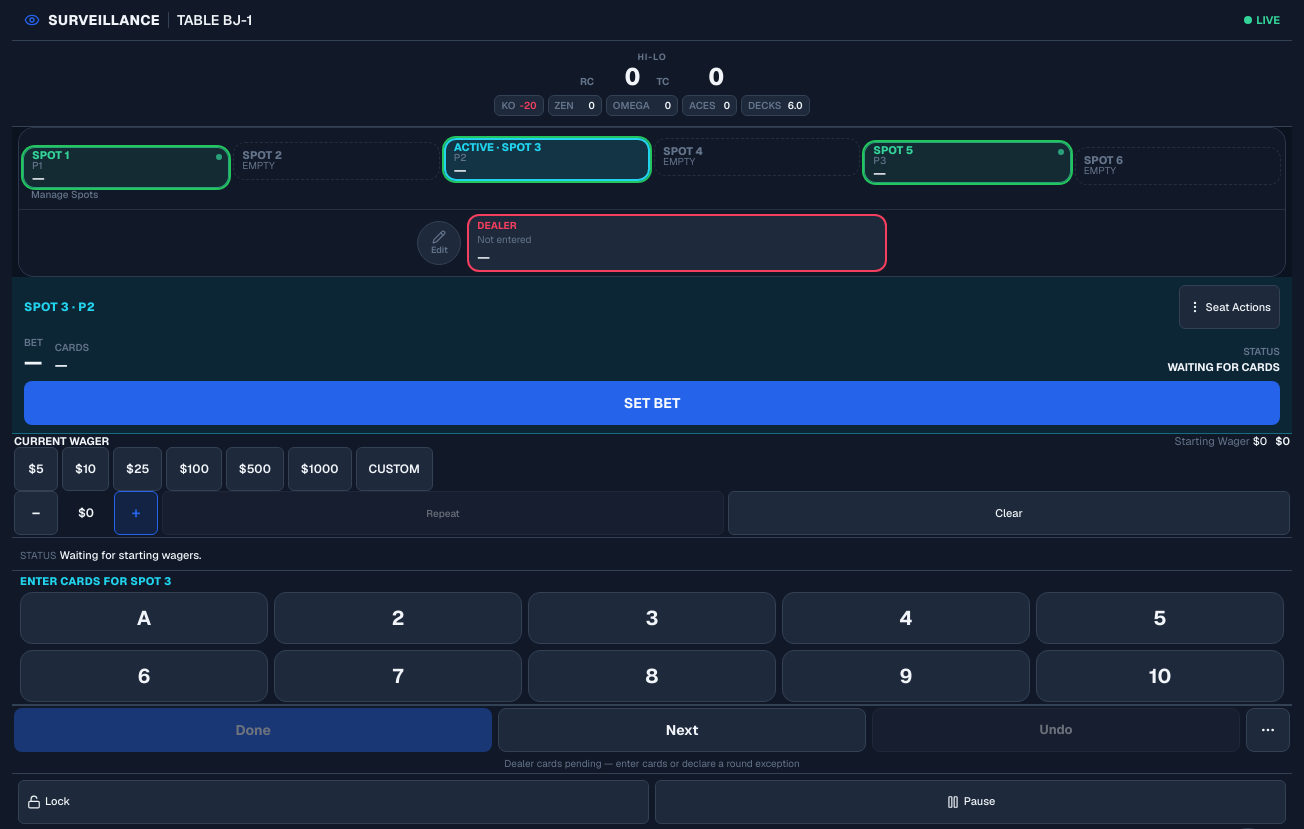
Test case: Terminology leak — Surveillance (LiveScreen) › clicking a Spot tile still activates the correct internal seat number — display text changed, internal IDs did not
Click the button "SPOT 5 P3 —".
click(967, 162)  # box x1=864 y1=142 x2=1071 y2=182
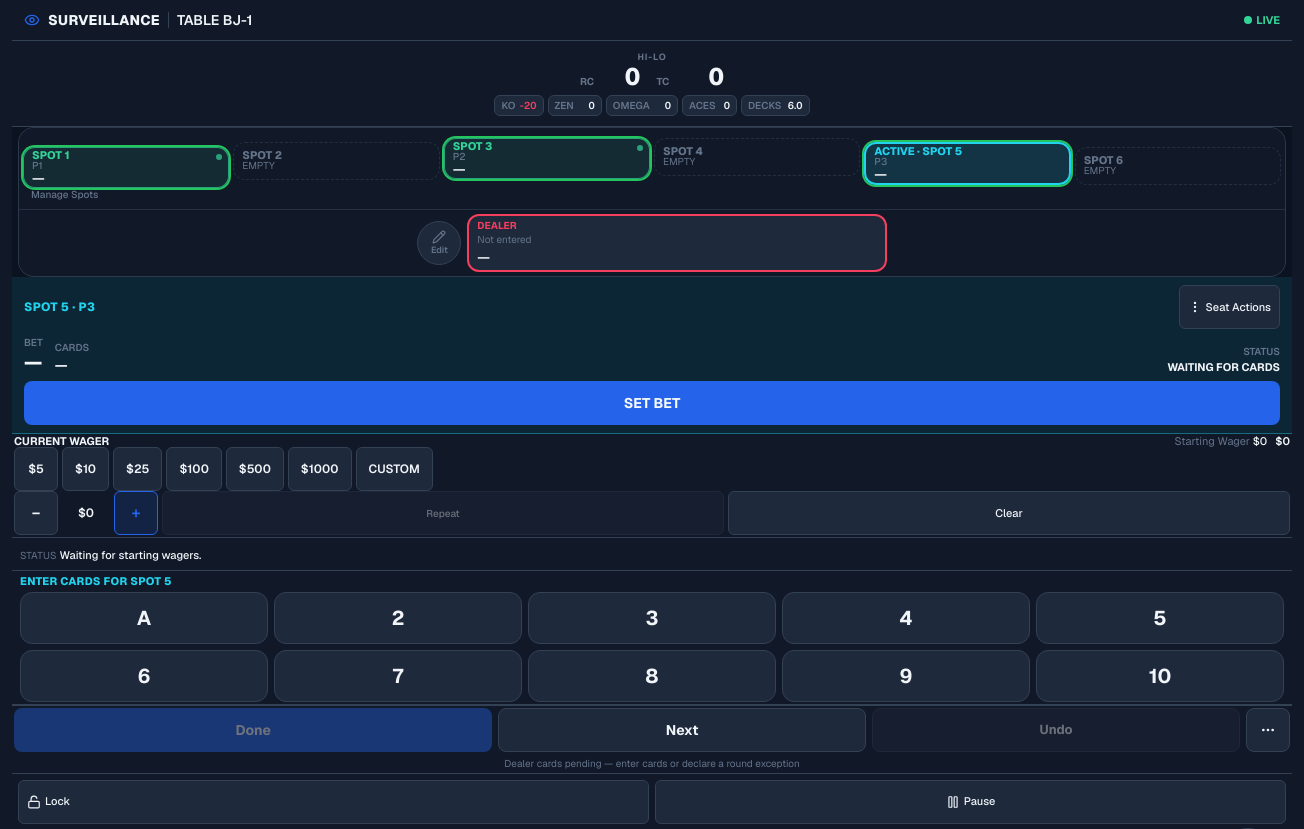
Check: the text "SPOT 5 · P3" is shown, box x1=24 y1=299 x2=95 y2=315
